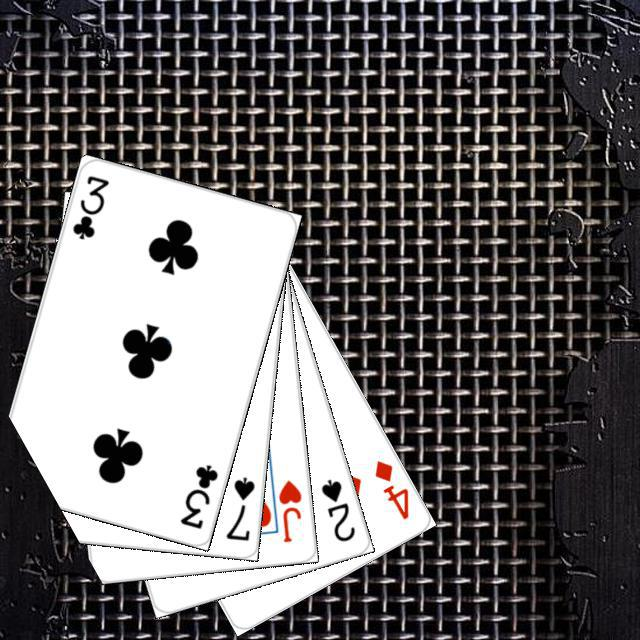2s: (316, 474, 357, 544)
3c: (175, 459, 220, 531), (67, 170, 111, 242)
4d: (369, 455, 411, 521)
7s: (221, 472, 256, 542)
Jh: (274, 475, 303, 544)
